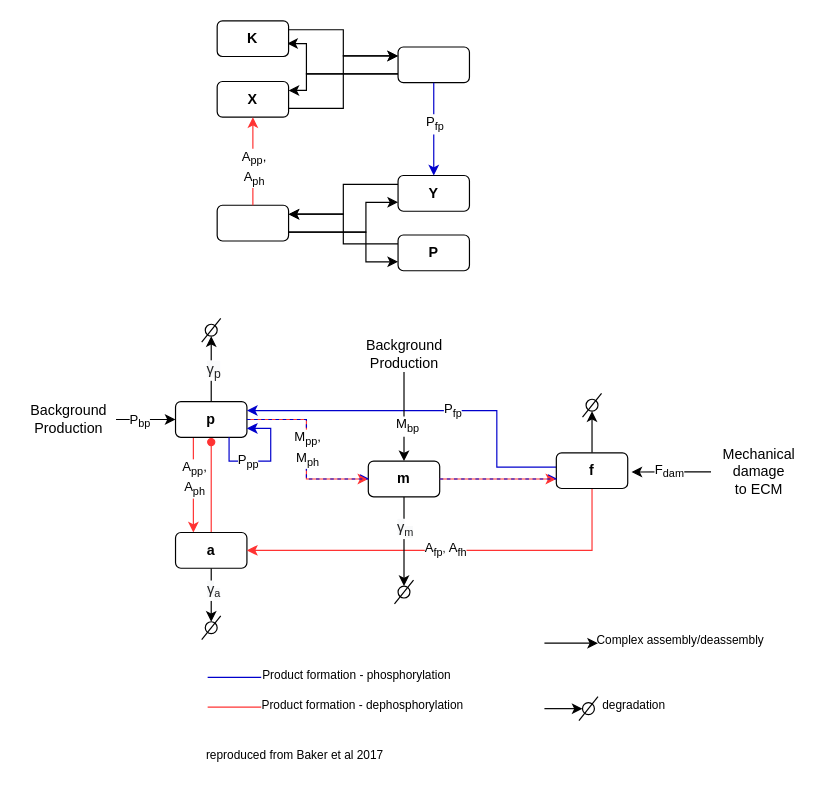
This 826x800 diagram has some shape labels left out. Each missing label, with the box of its shape:
XK: (397, 46, 469, 83)
YP: (216, 204, 289, 241)
